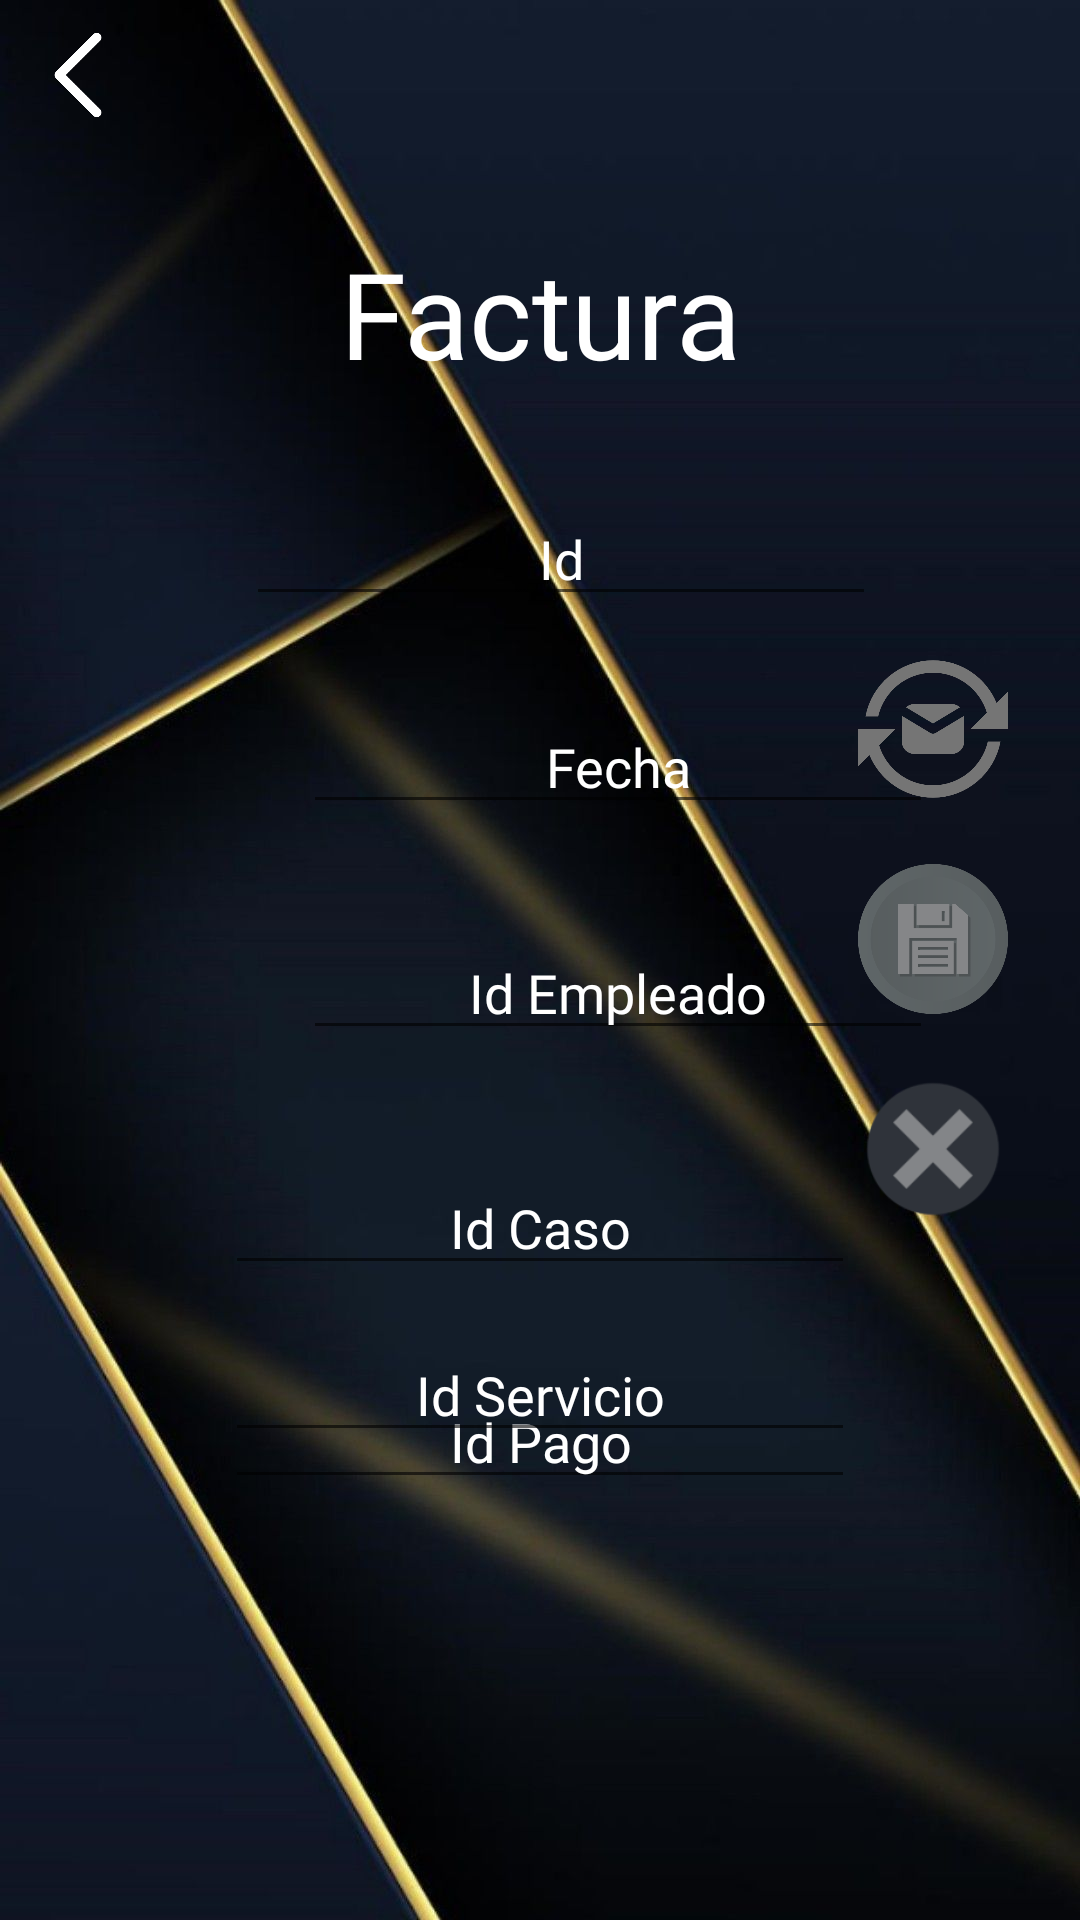

Point at icon controls on the screen. Image size 1080 × 1920, points as (x,y).
actualizar: (933,729)
eliminar: (928,1151)
guardar: (933,939)
